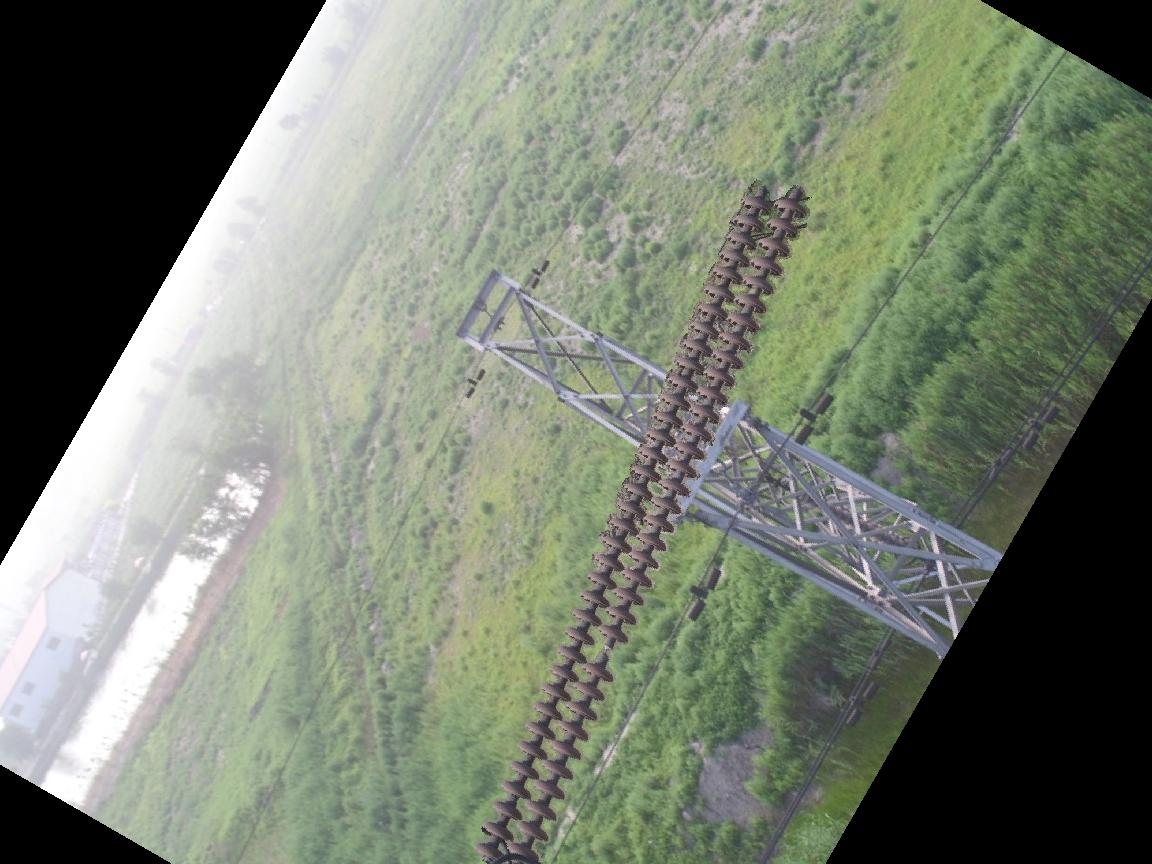insulator: (467, 180, 813, 864)
insulator_stringdrop: (578, 619, 632, 684)
